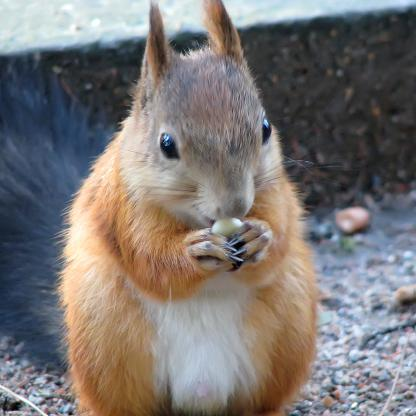Squirrel: (0, 0, 331, 415)
